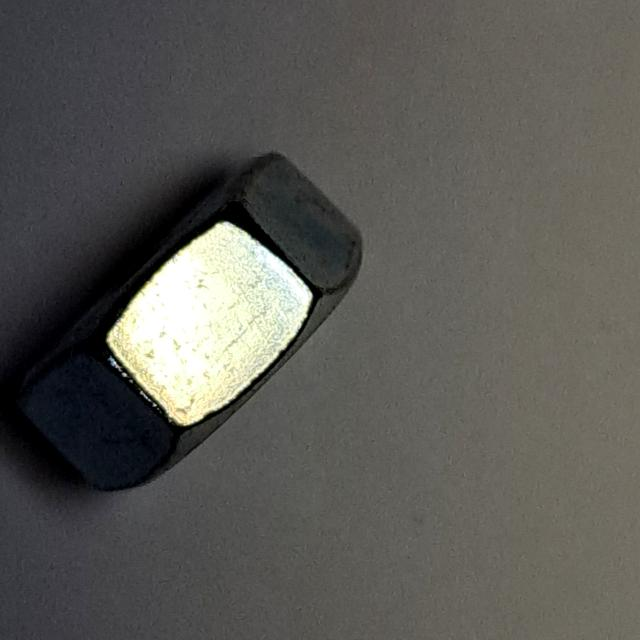Side_Excellent: (1, 110, 408, 504)
